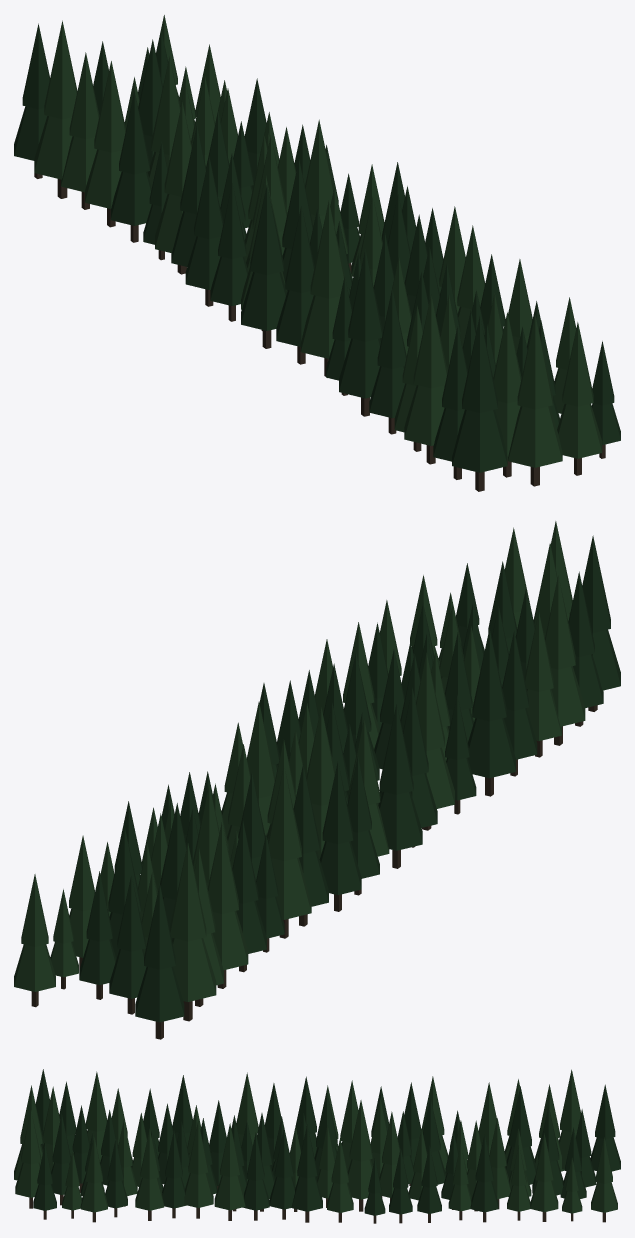
The model's file is forest_edge_06.glb.
The picture shows the model from 3 angles, top to bottom: view 1: azimuth 30°, elevation 25°; view 2: azimuth 150°, elevation 25°; view 3: azimuth 270°, elevation 25°; orthographic projection. The views are drawn at different scales.
Parts seen in each view (by area): view 1: chunk_0_0; view 2: chunk_0_0; view 3: chunk_0_0.
Part boxes in pixels (left/top/right/bottom): chunk_0_0: left=14, top=15, right=620, bottom=491; chunk_0_0: left=14, top=521, right=620, bottom=1039; chunk_0_0: left=14, top=1069, right=620, bottom=1223.
Size of the model in its own units: 29.63 by 27.63 by 131.
